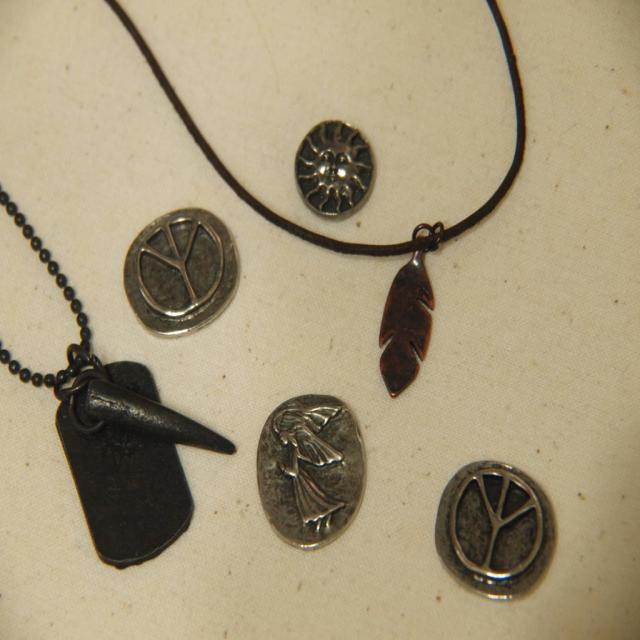Coin: (434, 454, 561, 606), (254, 394, 367, 554), (124, 209, 244, 333), (296, 113, 376, 213)
